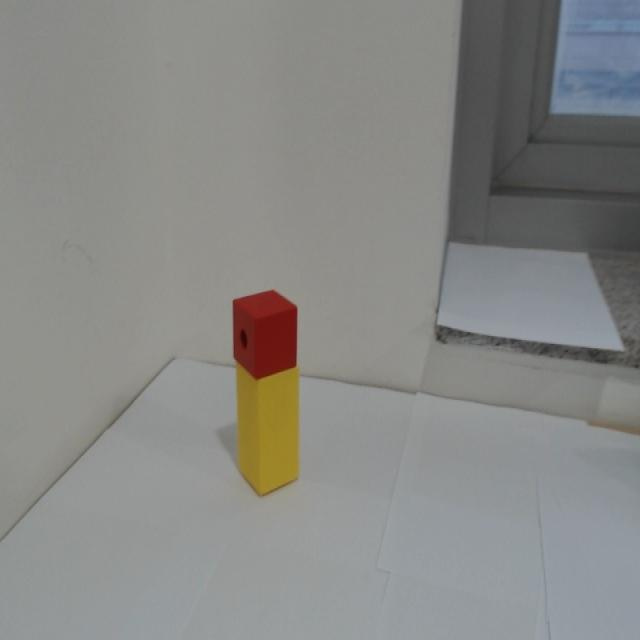cube: (232, 288, 298, 380)
